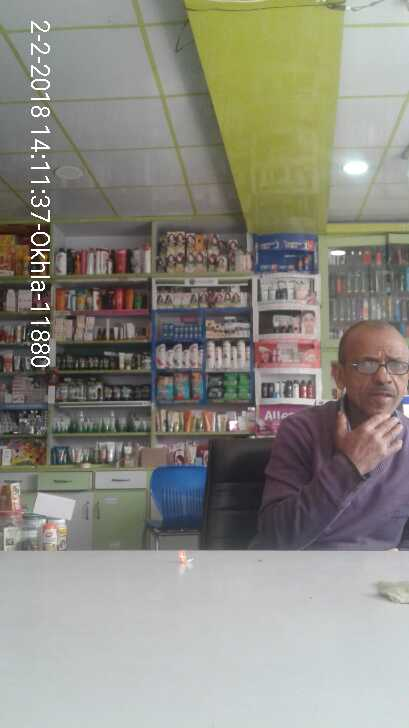vicks: (156, 318, 205, 336)
